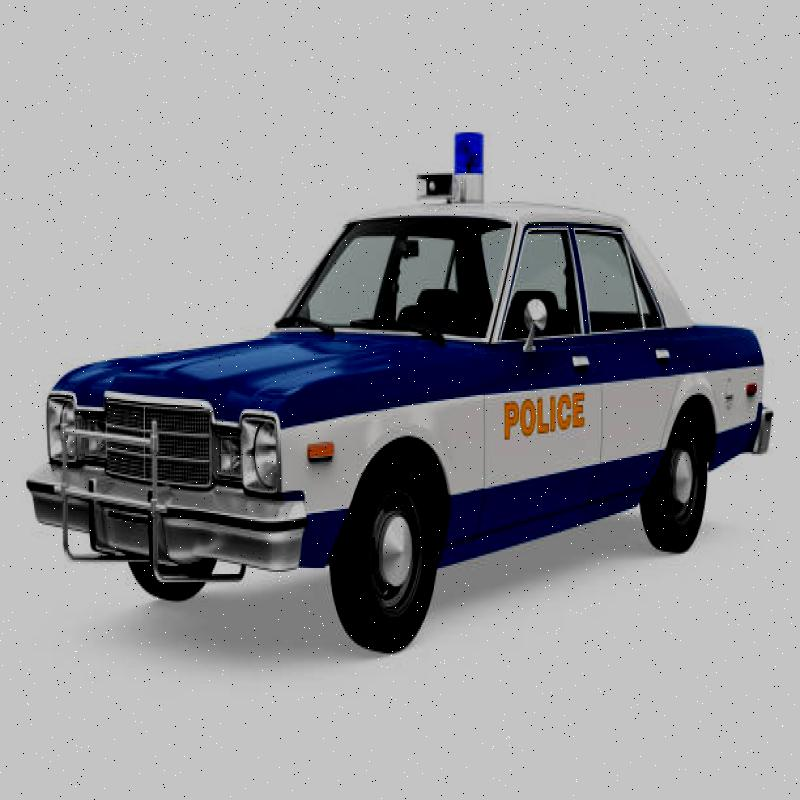AmbulanceSiren: (430, 105, 489, 220)
